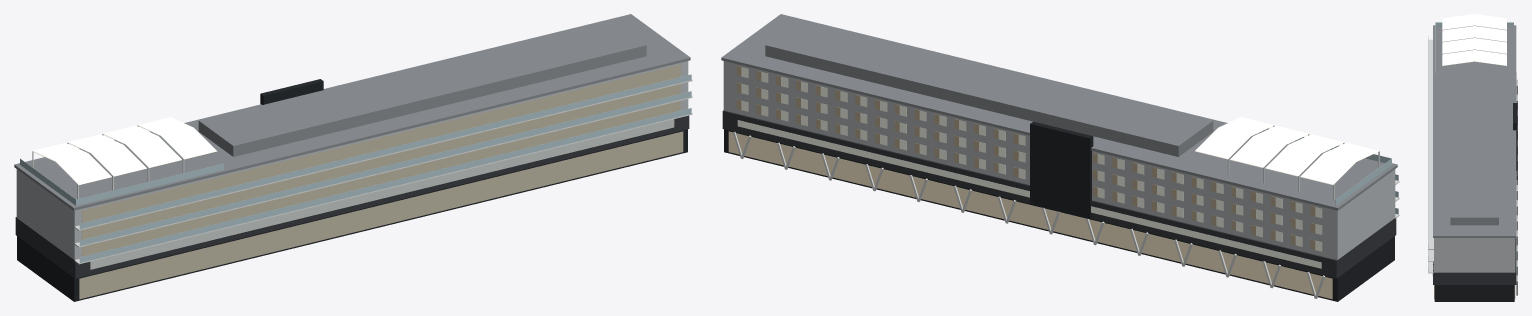
The model's file is sil_hotel.glb.
3 views of the same model, side by side, from view 1: azimuth 30°, elevation 25°; view 2: azimuth 150°, elevation 25°; view 3: azimuth 270°, elevation 25° (orthographic). The views are drawn at different scales.
Parts seen in each view (by area): view 1: silverstone-hilton-garden-inn; view 2: silverstone-hilton-garden-inn; view 3: silverstone-hilton-garden-inn.
Part boxes in pixels (left/top/right/bottom): silverstone-hilton-garden-inn: left=14, top=14, right=692, bottom=301; silverstone-hilton-garden-inn: left=721, top=14, right=1399, bottom=301; silverstone-hilton-garden-inn: left=1428, top=14, right=1517, bottom=301.
Size of the model in its own units: 123 by 22.36 by 22.18.
